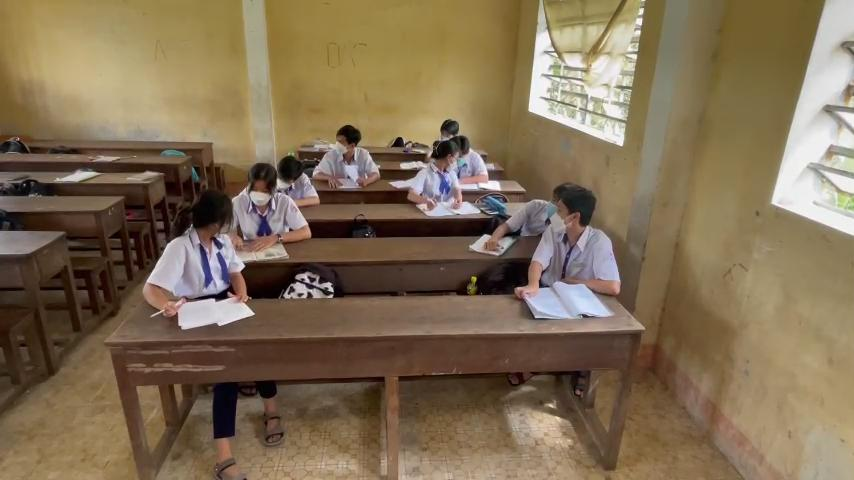Look Around: (176, 181, 233, 240), (546, 180, 603, 239), (419, 137, 464, 174), (323, 122, 368, 159)
